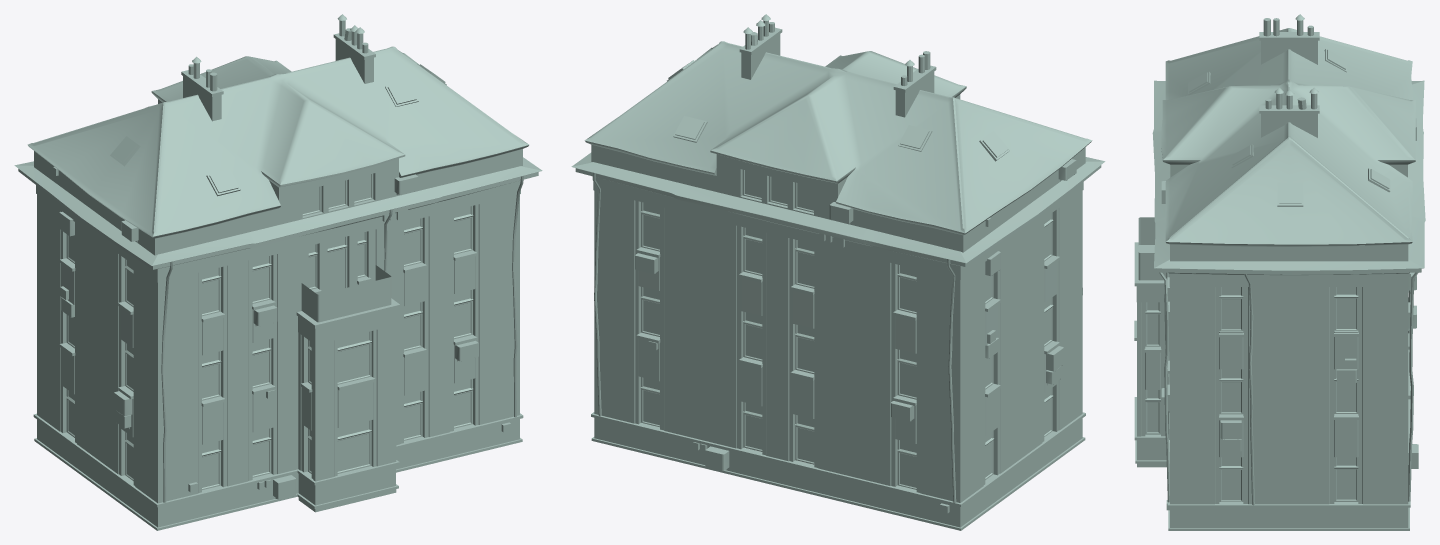
File: house_22.fbx
3 views of the same model, side by side, from view 1: azimuth 30°, elevation 25°; view 2: azimuth 150°, elevation 25°; view 3: azimuth 270°, elevation 25° (orthographic). The views are drawn at different scales.
Parts seen in each view (by area): view 1: house_HL_ALEX:house_22; view 2: house_HL_ALEX:house_22; view 3: house_HL_ALEX:house_22.
Boxes of the visible parts, <box> form: house_HL_ALEX:house_22: <box>14,14,542,530</box>; house_HL_ALEX:house_22: <box>571,14,1105,530</box>; house_HL_ALEX:house_22: <box>1134,14,1425,530</box>.
Size of the model in its own units: 54.61 by 53.45 by 35.52.
